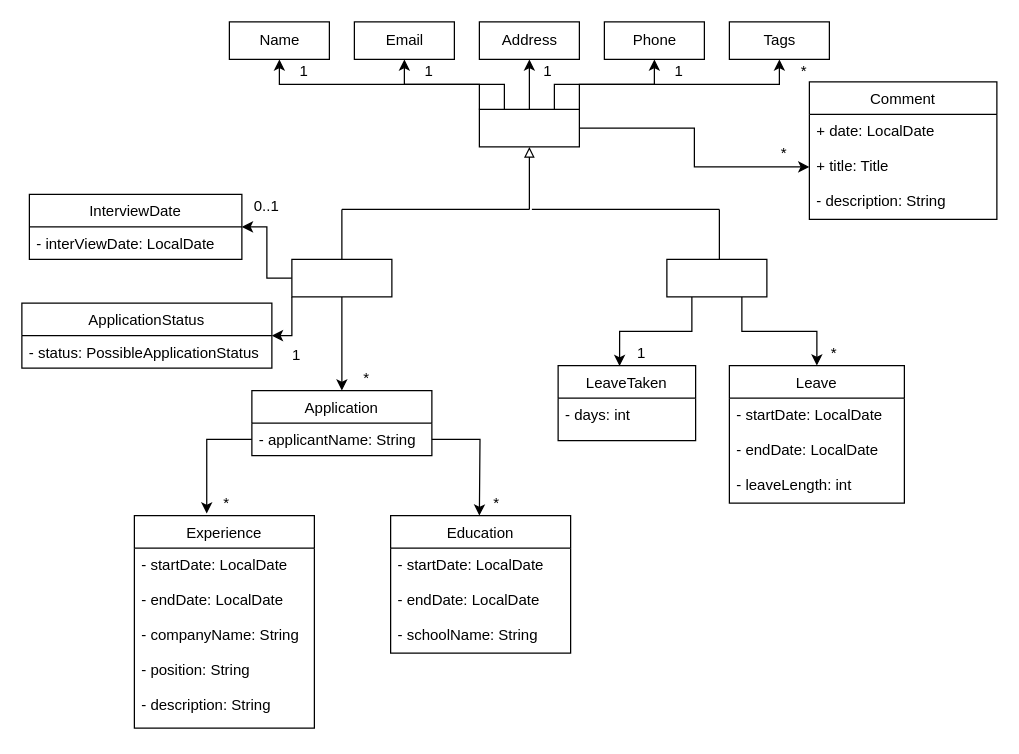
This 1019x754 diagram has some shape labels left out. Here are the shapes that lost their labels. From the top down, the centre of each, then its label:
At point 528,127: "Person".
At point 341,277: "Applicant".
At point 716,277: "Staff".
